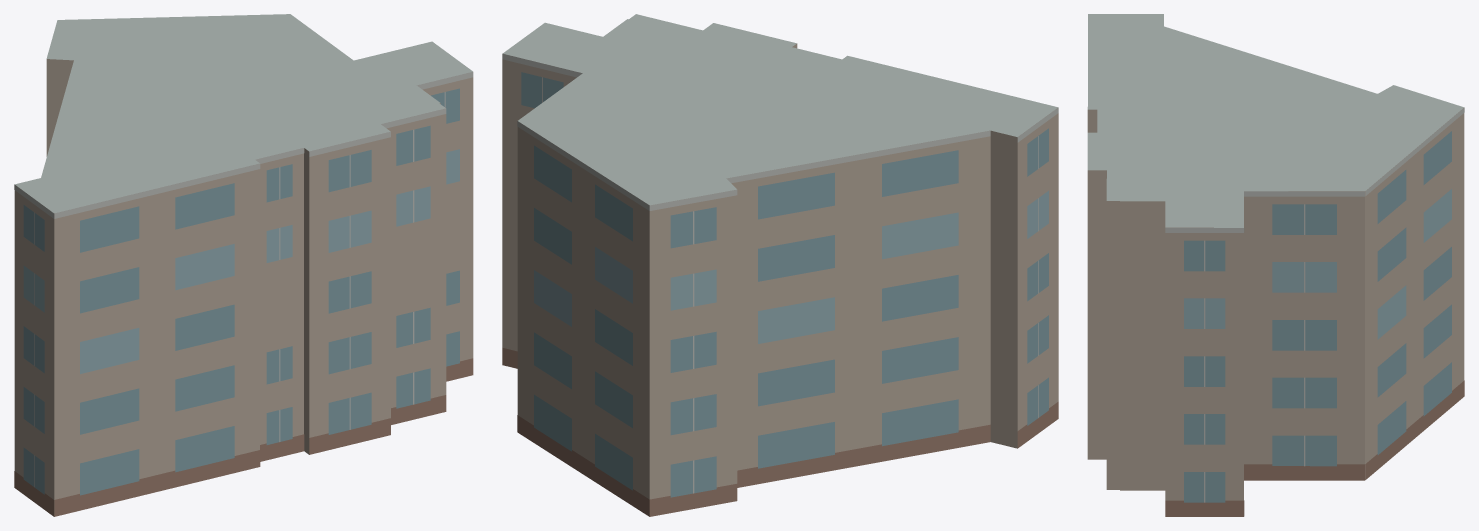
Rendered from survey-upis-33001123.glb.
3 renders of one model, left to right at view 1: azimuth 30°, elevation 25°; view 2: azimuth 150°, elevation 25°; view 3: azimuth 270°, elevation 25°, orthographic. The views are drawn at different scales.
Parts seen in each view (by area): view 1: survey-upis-33001123.tmp; view 2: survey-upis-33001123.tmp; view 3: survey-upis-33001123.tmp.
Boxes of the visible parts, x1=… form: survey-upis-33001123.tmp: x1=14, y1=14, x2=473, y2=516; survey-upis-33001123.tmp: x1=502, y1=14, x2=1058, y2=516; survey-upis-33001123.tmp: x1=1087, y1=14, x2=1464, y2=516.
Bounding box in the file's own units: 21.11 × 13.3 × 15.72.
